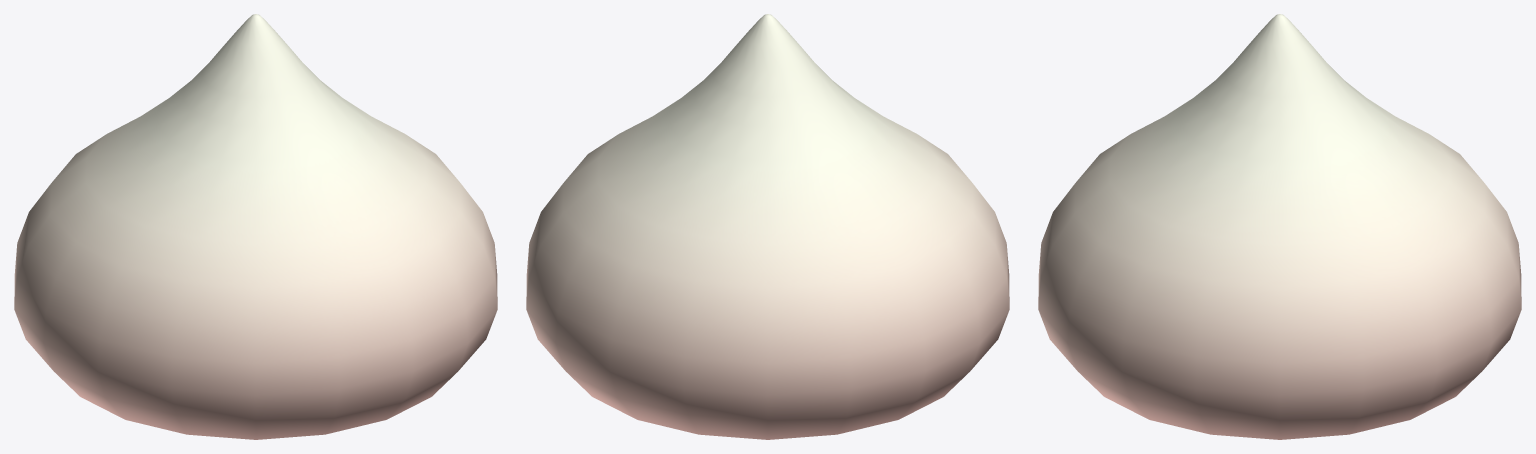
Rendered from cream.FBX.
3 renders of one model, left to right at view 1: azimuth 30°, elevation 25°; view 2: azimuth 150°, elevation 25°; view 3: azimuth 270°, elevation 25°, orthographic.
Visible parts, largest first — view 1: Cylinder002; view 2: Cylinder002; view 3: Cylinder002.
Part boxes in pixels (x1=…): Cylinder002: x1=14, y1=14, x2=497, y2=439; Cylinder002: x1=526, y1=14, x2=1009, y2=439; Cylinder002: x1=1038, y1=14, x2=1521, y2=439.
Size of the model in its own units: 97.49 by 81.7 by 96.1.
